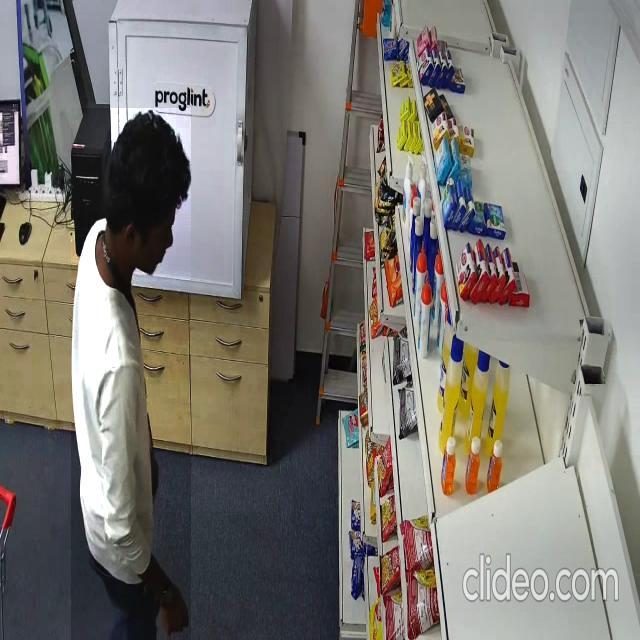normal: (71, 108, 191, 640)
